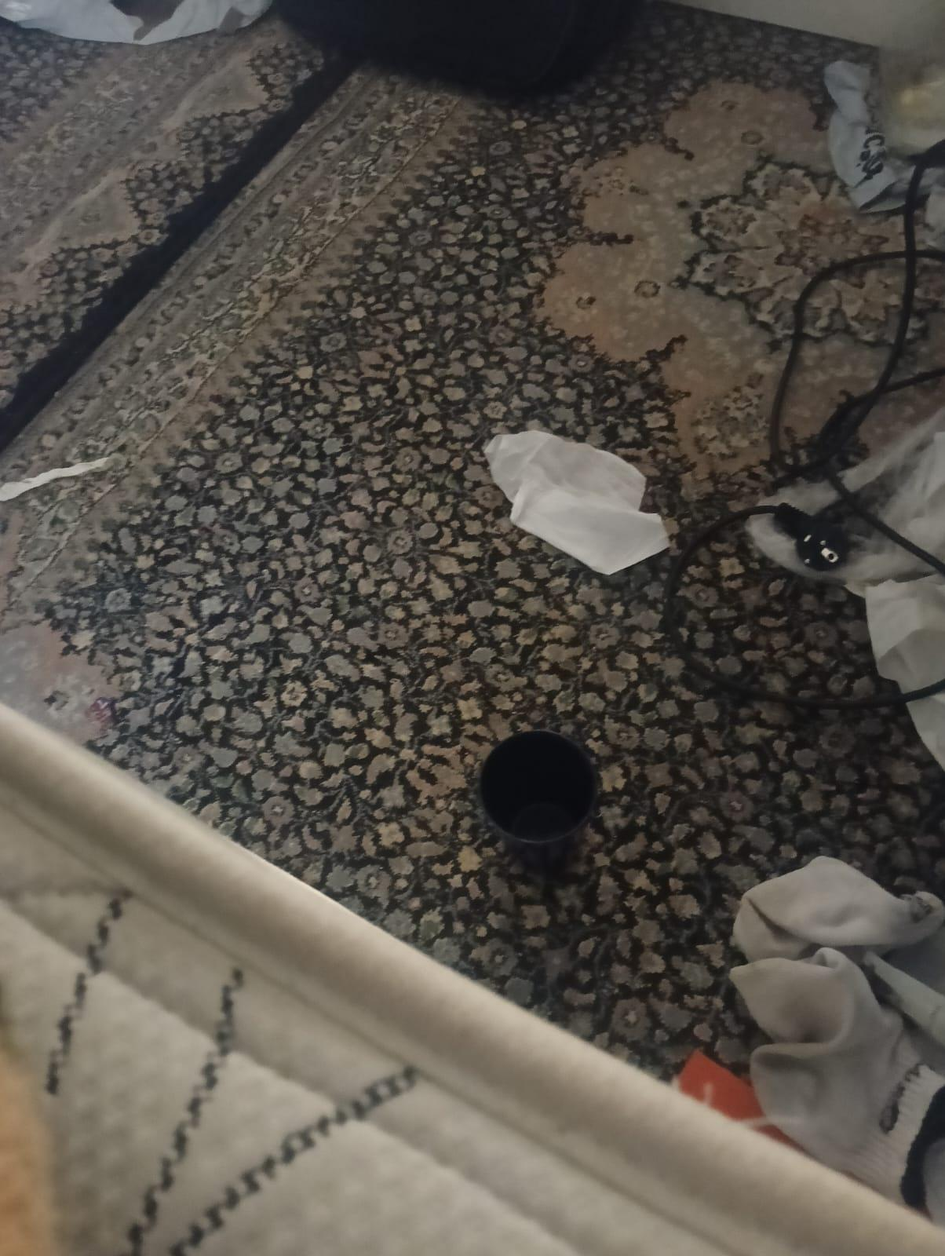cup: (479, 730, 596, 874)
